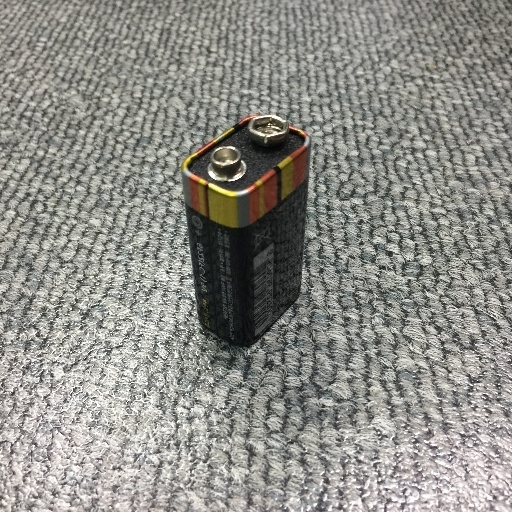Battery_3: (163, 95, 325, 364)
